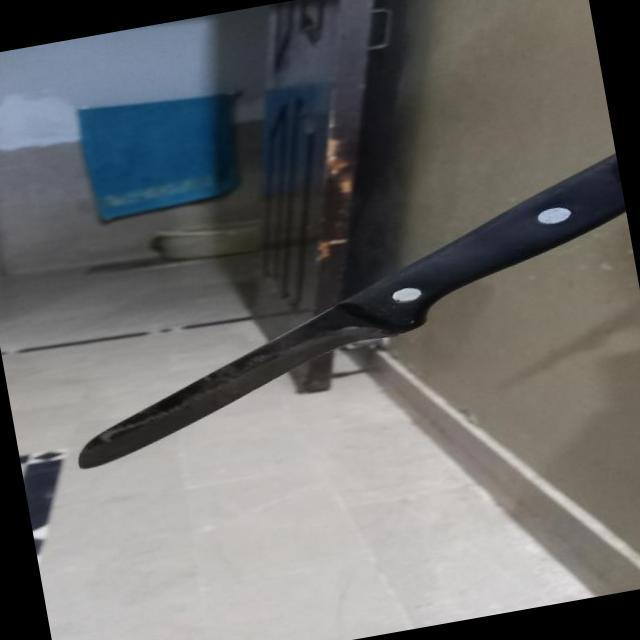Knife: (35, 156, 640, 481)
